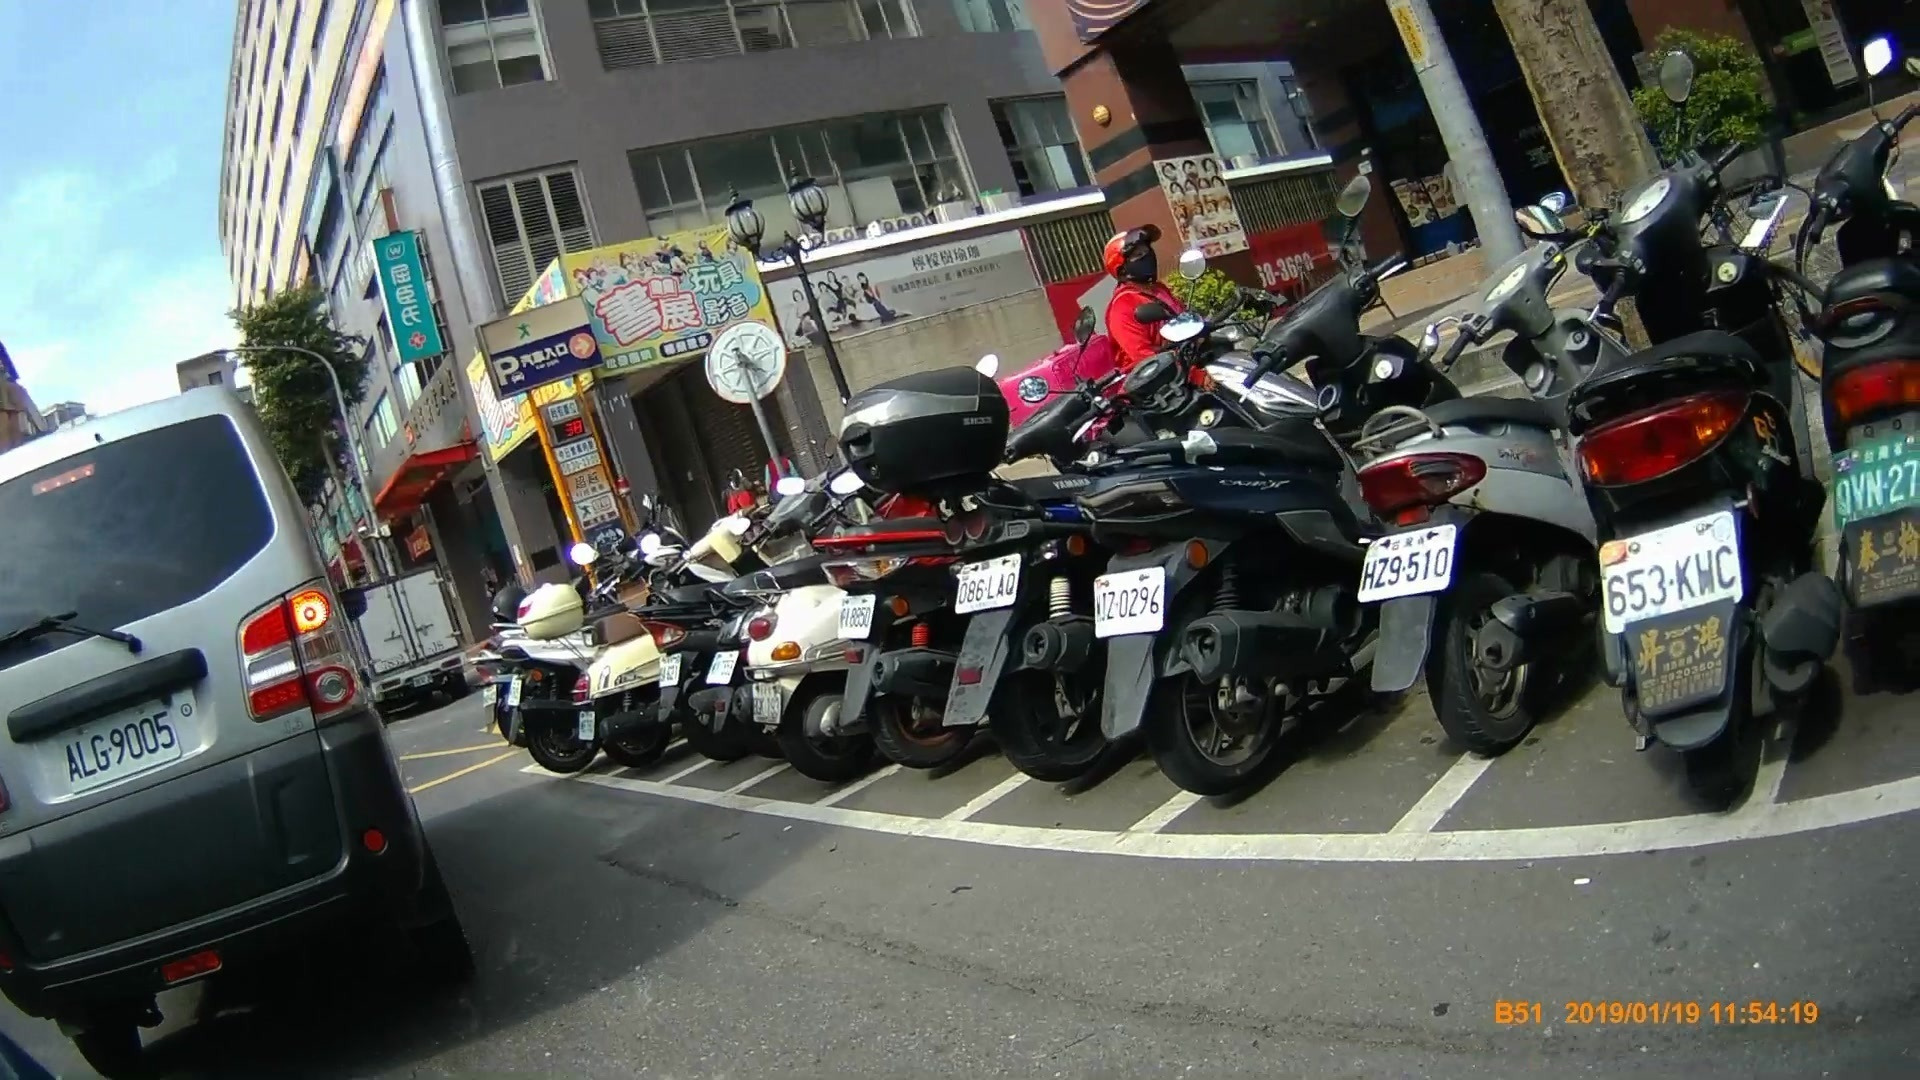License_plate: (1597, 509, 1745, 621), (55, 696, 186, 775), (1826, 444, 1920, 520), (1358, 525, 1455, 596), (1090, 569, 1165, 633), (952, 560, 1020, 611), (831, 596, 876, 643)
